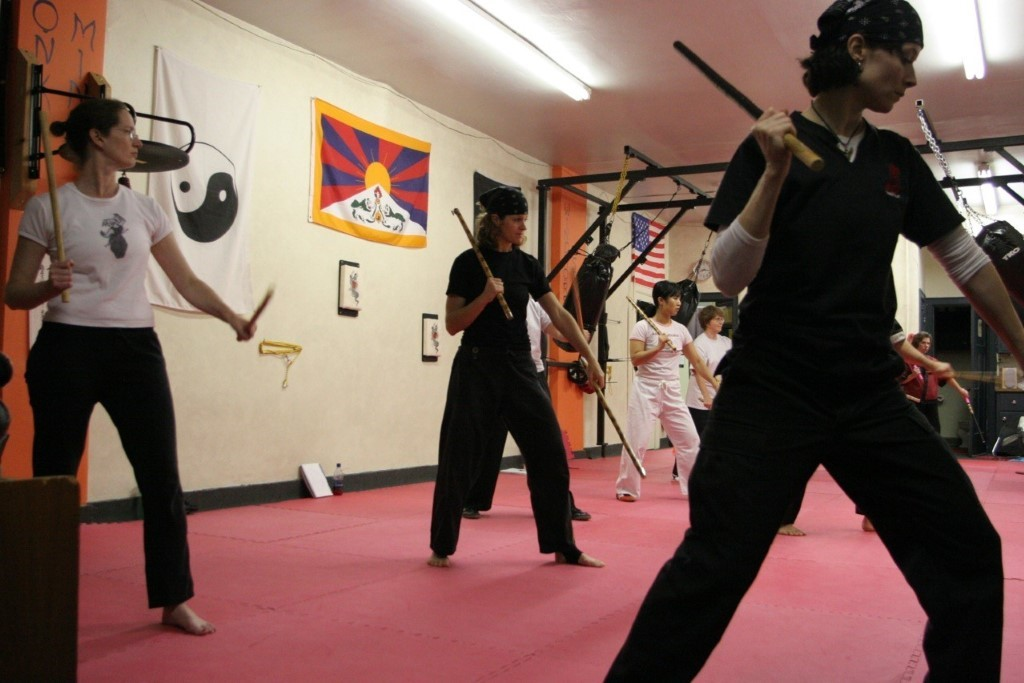baston_e: (675, 45, 814, 154), (580, 362, 645, 470), (36, 120, 69, 298), (454, 212, 511, 314), (627, 298, 674, 346), (236, 296, 269, 337), (963, 398, 985, 439)
baston_v: (802, 147, 831, 178), (34, 106, 51, 126), (670, 35, 687, 52), (60, 293, 73, 307), (505, 312, 515, 322), (577, 355, 586, 365), (233, 332, 242, 342), (640, 472, 648, 480), (451, 206, 460, 213), (266, 288, 274, 295), (671, 346, 677, 352), (624, 294, 630, 300), (981, 438, 986, 444)
